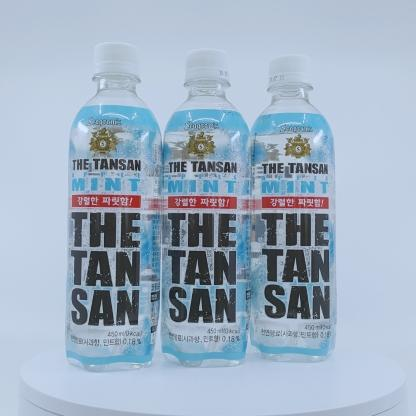------------450ML: (65, 42, 162, 372), (160, 48, 251, 368), (249, 54, 337, 363)
